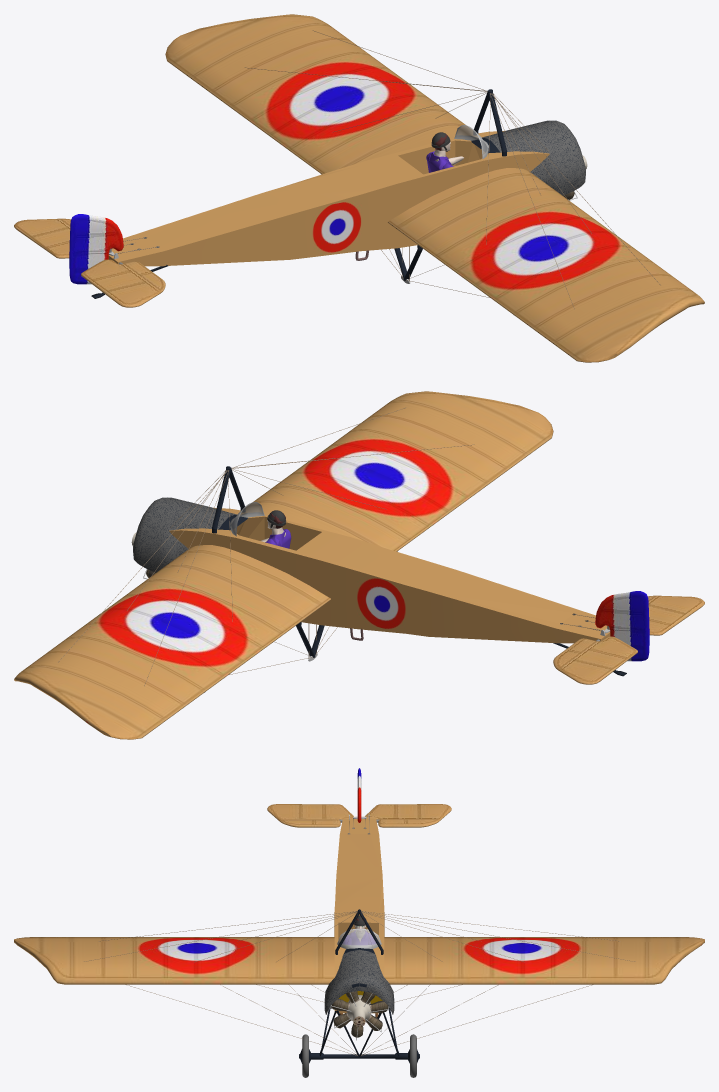
File: morane_saulnier_g.glb
3 renders of one model, top to bottom at view 1: azimuth 30°, elevation 25°; view 2: azimuth 150°, elevation 25°; view 3: azimuth 270°, elevation 25°, orthographic. The views are drawn at different scales.
Visible parts, largest first — view 1: Line12-FACES, Line42-FACES, Box01-FACES (×2), kapot01-FACES, Line13-FACES, Line14-FACES, Line11-FACES, kapot-FACES, Line28-FACES, Line32-FACES, Line24-FACES; view 2: Line42-FACES, Line12-FACES, Box01-FACES (×2), kapot01-FACES, Line13-FACES, Line11-FACES, Line14-FACES, kapot-FACES, Line28-FACES, Line32-FACES, Line24-FACES; view 3: Line12-FACES, Line42-FACES, Box01-FACES, kapot01-FACES, Line11-FACES, Line14-FACES, Line28-FACES, kapot-FACES, Line29-FACES, Line32-FACES, Cylinder02-FACES, Line17-FACES.
Boxes of the visible parts, <box> form: Line12-FACES: <box>387,168,704,362</box>; Line42-FACES: <box>165,14,472,174</box>; Box01-FACES (×2): <box>108,130,549,266</box>; kapot01-FACES: <box>482,120,585,195</box>; Line13-FACES: <box>69,214,123,284</box>; Line14-FACES: <box>81,259,165,307</box>; Line11-FACES: <box>14,218,71,257</box>; kapot-FACES: <box>471,120,585,195</box>; Line28-FACES: <box>312,30,660,285</box>; Line32-FACES: <box>245,67,574,309</box>; Line24-FACES: <box>473,89,506,156</box>; Line42-FACES: <box>14,545,331,739</box>; Line12-FACES: <box>246,391,553,551</box>; Box01-FACES (×2): <box>169,507,610,643</box>; kapot01-FACES: <box>133,497,236,572</box>; Line13-FACES: <box>595,591,649,661</box>; Line11-FACES: <box>553,636,637,684</box>; Line14-FACES: <box>647,595,704,634</box>; kapot-FACES: <box>133,498,247,572</box>; Line28-FACES: <box>58,407,406,662</box>; Line32-FACES: <box>144,444,474,686</box>; Line24-FACES: <box>212,466,245,533</box>; Line12-FACES: <box>14,937,334,984</box>; Line42-FACES: <box>384,937,704,984</box>; Box01-FACES: <box>334,818,384,1013</box>; kapot01-FACES: <box>324,949,394,1014</box>; Line11-FACES: <box>365,804,451,826</box>; Line14-FACES: <box>267,804,353,826</box>; Line28-FACES: <box>83,911,635,962</box>; kapot-FACES: <box>325,948,393,1012</box>; Line29-FACES: <box>126,984,592,1055</box>; Line32-FACES: <box>98,911,620,941</box>; Cylinder02-FACES: <box>299,1049,419,1063</box>; Line17-FACES: <box>319,1009,399,1056</box>.
Size of the model in its own units: 6.3 by 2.4 by 9.2.
Materials: 37 (14 with a texture image).
